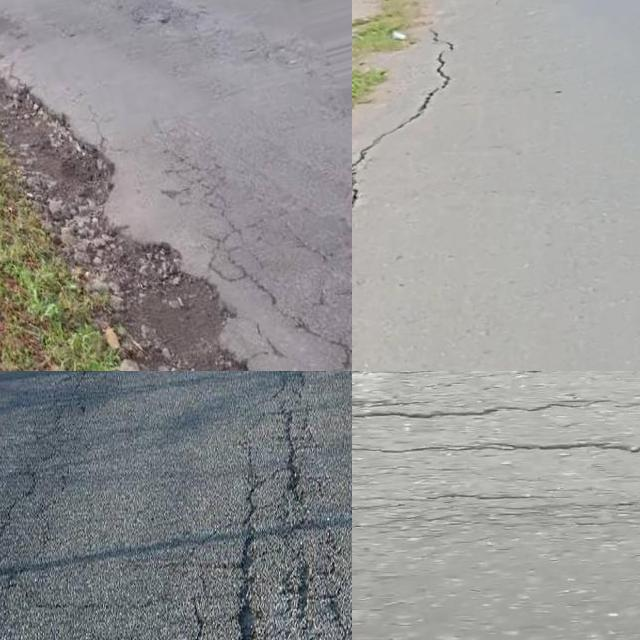Melintang: (352, 437, 640, 473)
Memanjang: (352, 24, 456, 228), (229, 452, 266, 640), (278, 371, 322, 498)
Pinggir: (0, 55, 264, 371)
